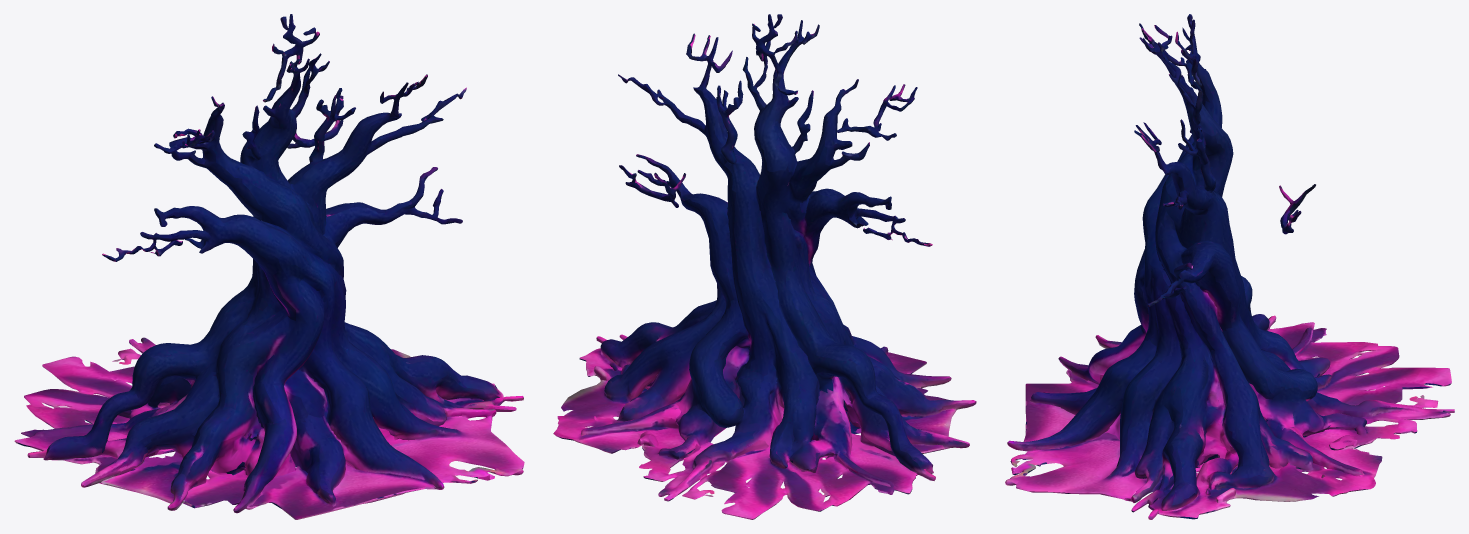
Rendered from sea-root-south-generated-2026-05-17T19-31-34-603Z.medium.glb.
The picture shows the model from 3 angles, left to right: view 1: azimuth 30°, elevation 25°; view 2: azimuth 150°, elevation 25°; view 3: azimuth 270°, elevation 25°; orthographic projection. The views are drawn at different scales.
Parts seen in each view (by area): view 1: temp_mesh.ply; view 2: temp_mesh.ply; view 3: temp_mesh.ply.
Boxes of the visible parts, x1,y1,x2,y2 form: temp_mesh.ply: (14,14,524,519); temp_mesh.ply: (553,14,976,519); temp_mesh.ply: (1005,14,1454,519).
Size of the model in its own units: 1.97 by 1.85 by 1.86.
1 material, 1 textured.
